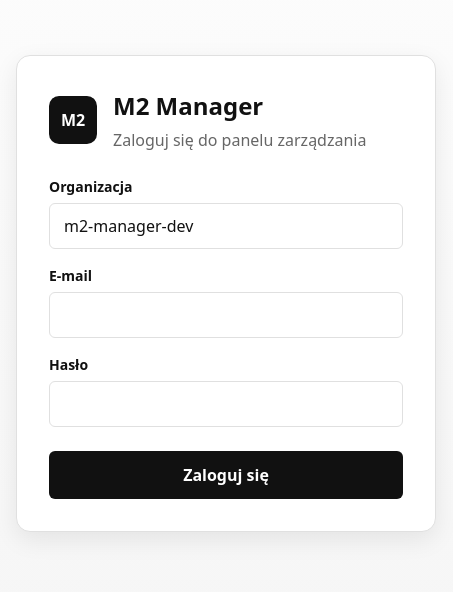
LoginPage › shows validation errors for empty form
Clear the field labelled "Organizacja" at (226, 226), box [49, 202, 403, 248]
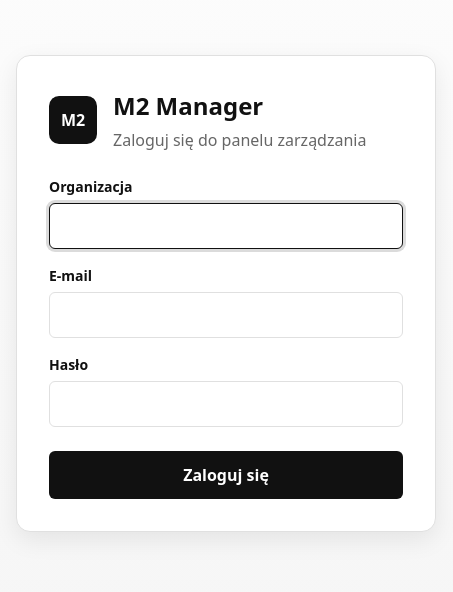
Click the button "Zaloguj się" at (226, 474), box [49, 450, 403, 498]
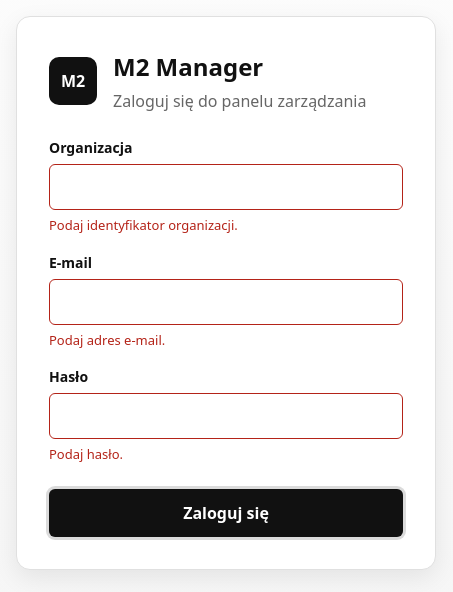
Expected: the text "Podaj identyfikator organizacji." is shown, [49, 216, 238, 234]
Expected: the text "Podaj adres e-mail." is shown, [49, 331, 165, 349]
Expected: the text "Podaj hasło." is shown, [49, 445, 123, 463]
